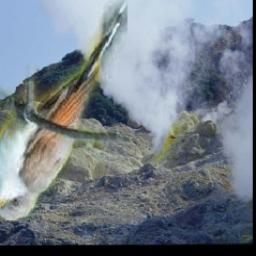Cuckoo: (0, 1, 127, 221)
